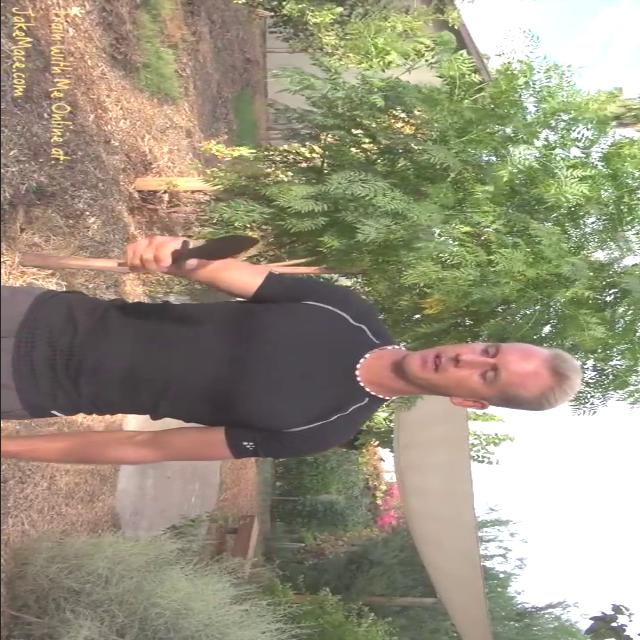knife: (160, 233, 280, 269)
